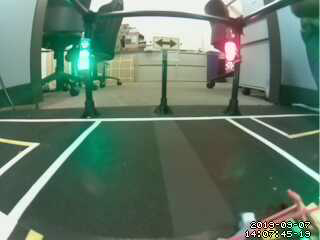Left_Right_sign: (151, 33, 181, 51)
Traffic_light_green: (76, 37, 94, 76)
Traffic_light_red: (222, 40, 240, 76)
